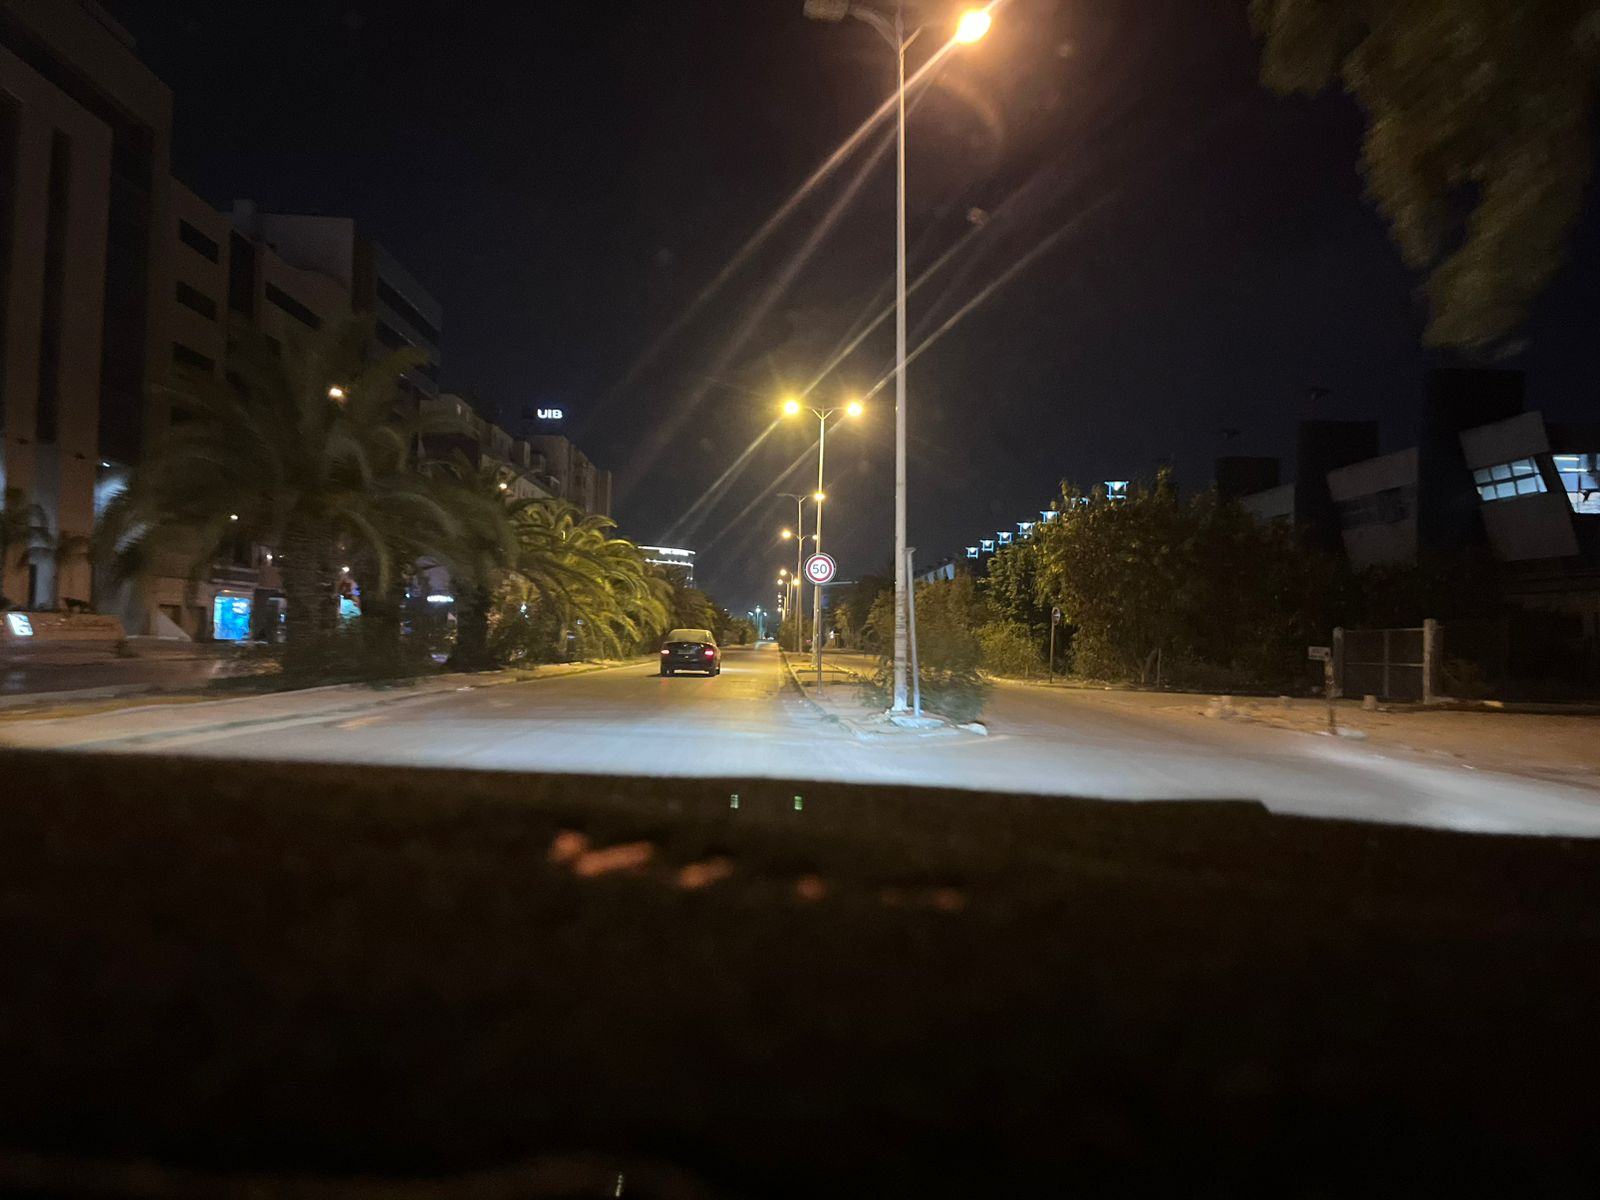SpeedLimit50: (803, 552, 838, 586)
